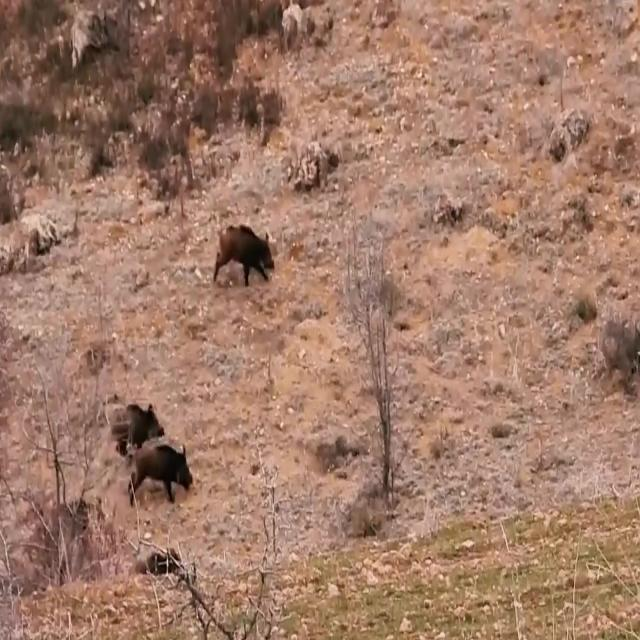pig: (188, 214, 324, 318), (126, 439, 212, 516), (100, 384, 160, 427)
